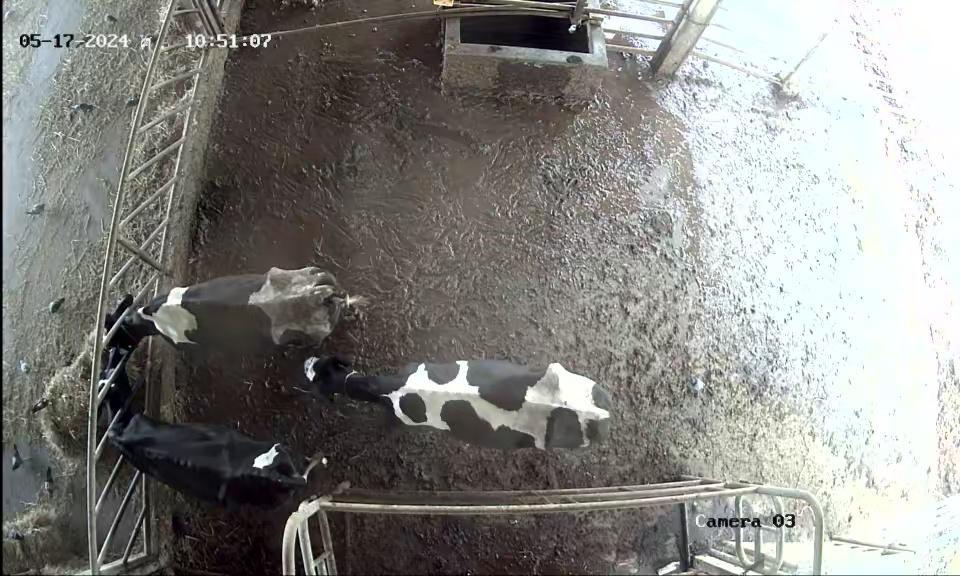eat: (62, 349, 157, 433), (70, 296, 178, 358)
stand: (285, 348, 628, 458)
